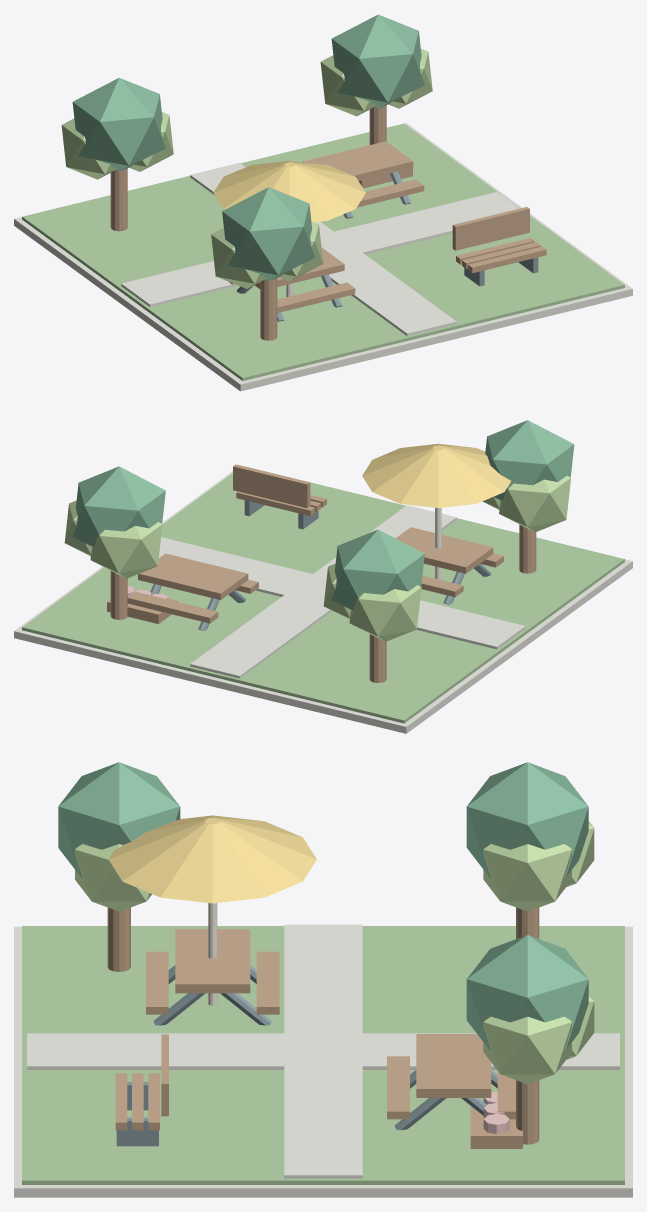
File: remaster_picnic.glb
3 views of the same model, one above another, from view 1: azimuth 30°, elevation 25°; view 2: azimuth 150°, elevation 25°; view 3: azimuth 270°, elevation 25° (orthographic). The views are drawn at different scales.
Parts seen in each view (by area): view 1: lot surface.007, walking path.007, lot foundation.007, tree canopy.036, tree canopy.039, tree canopy.033, sun umbrella.007, walking path.006, picnic table.003, bench back.008, tree canopy.041, tree canopy.038 (+11 smaller); view 2: lot surface.007, lot foundation.007, sun umbrella.007, walking path.006, walking path.007, tree canopy.039, tree canopy.036, tree canopy.033, picnic table.003, tree canopy.041, tree canopy.035, tree canopy.038 (+11 smaller); view 3: lot surface.007, walking path.007, walking path.006, sun umbrella.007, lot foundation.007, tree canopy.036, tree canopy.039, tree canopy.033, tree canopy.040, tree canopy.037, picnic table.002, picnic table.003 (+17 smaller).
Boxes of the visible parts, x1,y1,x2,y2 form: lot surface.007: [22, 123, 624, 380]; walking path.007: [121, 192, 519, 306]; lot foundation.007: [14, 123, 632, 391]; tree canopy.036: [331, 14, 424, 108]; tree canopy.039: [72, 77, 165, 171]; tree canopy.033: [222, 187, 315, 280]; sun umbrella.007: [213, 160, 365, 222]; walking path.006: [190, 162, 456, 336]; picnic table.003: [303, 141, 413, 180]; bench back.008: [452, 207, 529, 250]; tree canopy.041: [61, 118, 116, 179]; tree canopy.038: [320, 55, 376, 116]; lot surface.007: [22, 466, 624, 723]; lot foundation.007: [14, 471, 632, 733]; sun umbrella.007: [362, 443, 511, 508]; walking path.006: [190, 505, 456, 678]; walking path.007: [159, 537, 525, 649]; tree canopy.039: [331, 529, 424, 610]; tree canopy.036: [72, 466, 165, 546]; tree canopy.033: [485, 420, 574, 500]; picnic table.003: [138, 553, 248, 599]; tree canopy.041: [349, 585, 421, 641]; tree canopy.035: [499, 476, 570, 532]; tree canopy.038: [90, 522, 162, 578]; lot surface.007: [22, 926, 624, 1184]; walking path.007: [284, 924, 362, 1178]; walking path.006: [27, 1033, 619, 1069]; sun umbrella.007: [108, 815, 316, 903]; lot foundation.007: [14, 926, 632, 1197]; tree canopy.036: [466, 935, 588, 1050]; tree canopy.039: [466, 762, 588, 878]; tree canopy.033: [58, 762, 180, 877]; tree canopy.040: [483, 844, 571, 911]; tree canopy.037: [483, 1016, 571, 1084]; picnic table.002: [175, 929, 250, 993]; picnic table.003: [416, 1034, 491, 1097].
Size of the model in its own units: 9.5 by 3.7 by 9.5.
